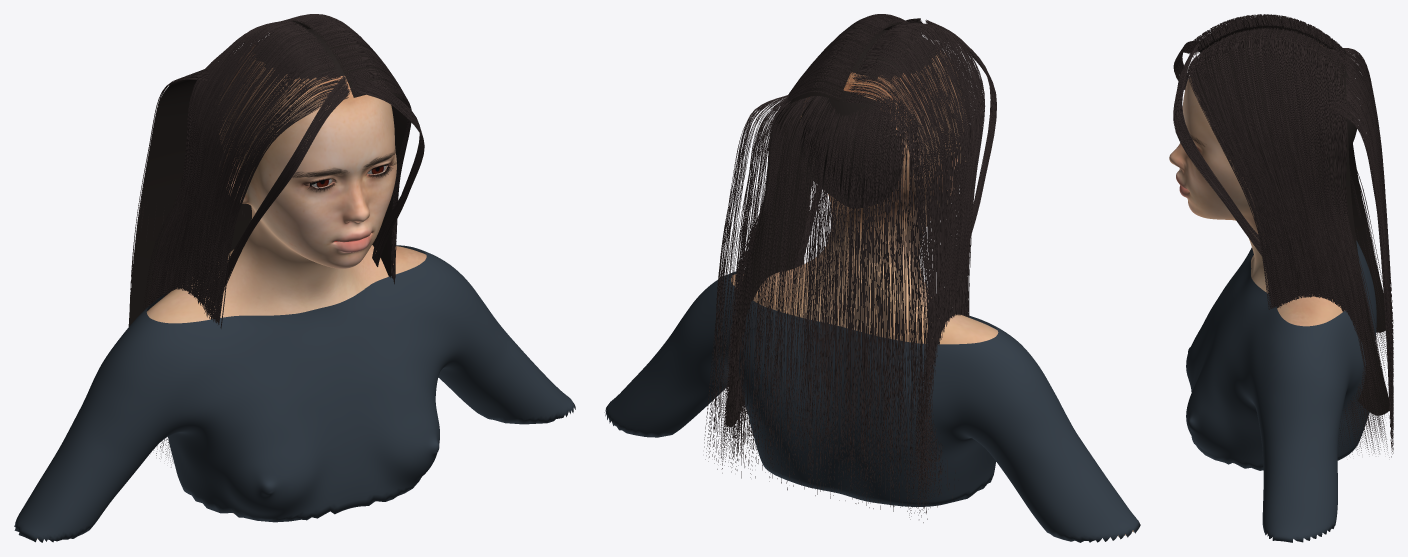
File: face-study.glb
3 renders of one model, left to right at view 1: azimuth 30°, elevation 25°; view 2: azimuth 150°, elevation 25°; view 3: azimuth 270°, elevation 25°, orthographic. The views are drawn at different scales.
Parts seen in each view (by area): view 1: FaceStudy_training_top, FaceStudy_hair_strands, FaceStudy_skin, FaceStudy_hair_locks, FaceStudy_hair_scalp; view 2: FaceStudy_hair_strands, FaceStudy_training_top, FaceStudy_skin, FaceStudy_hair_locks, FaceStudy_hair_scalp; view 3: FaceStudy_hair_strands, FaceStudy_training_top, FaceStudy_hair_locks, FaceStudy_skin, FaceStudy_hair_scalp.
Boxes of the visible parts, box(x1,y1,x2,y2) form: FaceStudy_training_top: box(14, 245, 575, 542); FaceStudy_hair_strands: box(129, 14, 424, 467); FaceStudy_skin: box(36, 45, 426, 539); FaceStudy_hair_locks: box(128, 20, 407, 326); FaceStudy_hair_scalp: box(217, 29, 344, 107); FaceStudy_hair_strands: box(704, 14, 996, 522); FaceStudy_training_top: box(604, 271, 1140, 542); FaceStudy_skin: box(611, 51, 1133, 537); FaceStudy_hair_locks: box(726, 18, 946, 427); FaceStudy_hair_scalp: box(798, 30, 936, 208); FaceStudy_hair_strands: box(1173, 14, 1393, 457); FaceStudy_training_top: box(1186, 240, 1376, 542); FaceStudy_hair_locks: box(1193, 17, 1390, 415); FaceStudy_skin: box(1169, 76, 1344, 533); FaceStudy_hair_scalp: box(1223, 29, 1356, 150).
Bounding box in the file's own units: 0.5276 × 0.4147 × 0.2104.
Materials: 14 (4 with a texture image).
